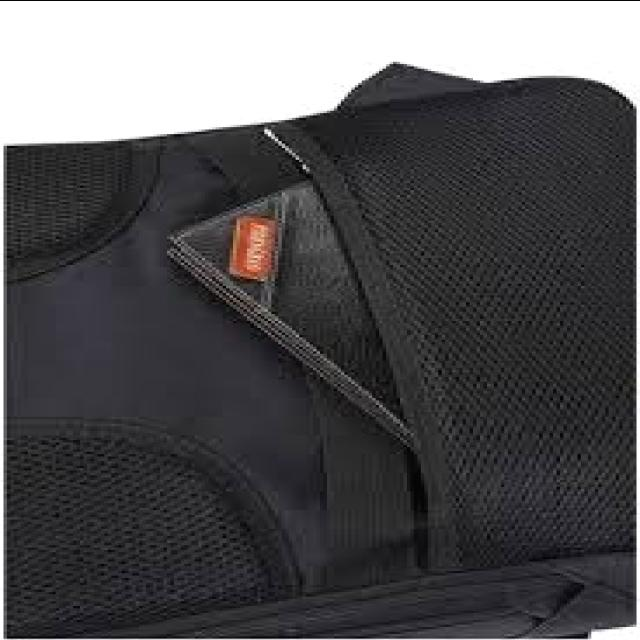backpack: (5, 64, 635, 640)
